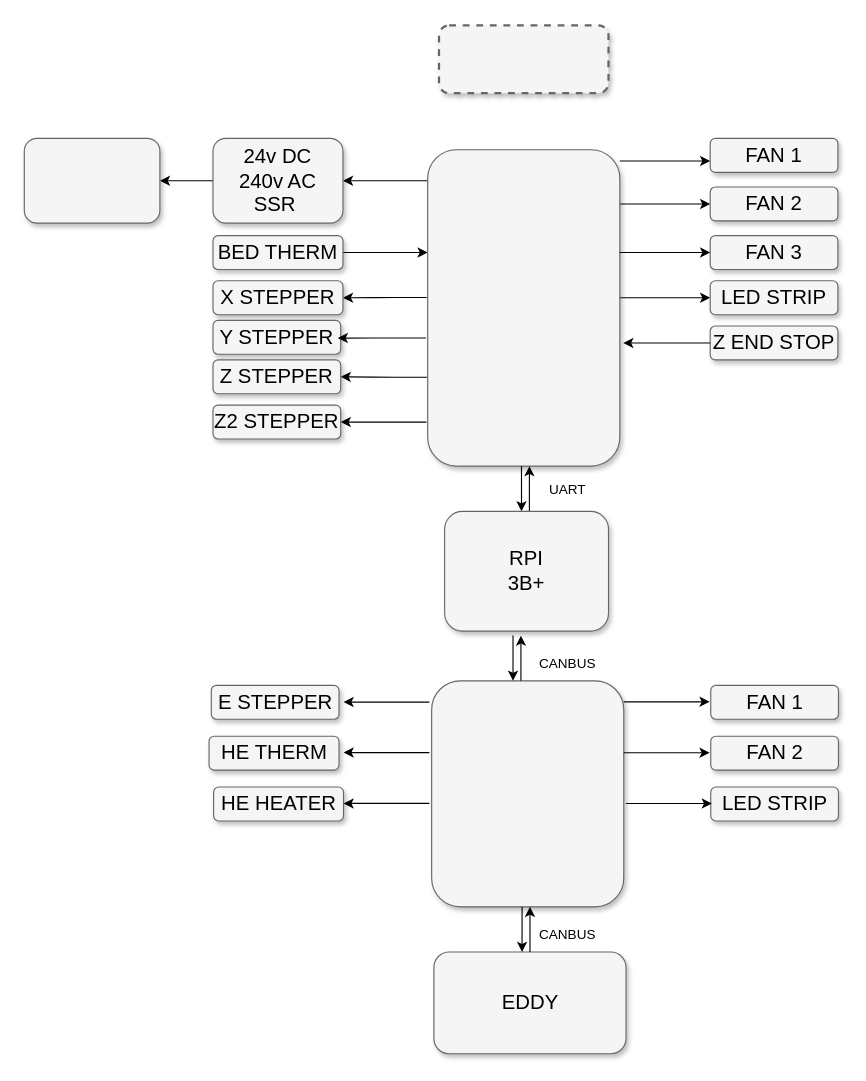
The diagram is 866 pixels wide and 1081 high, and some of its shapes have lost their labels. The shapes that lost their labels are listed below. From the top down, each one's centre as x and y in pixels, then its label:
At point (524, 60): "Printer Block Layout".
At point (93, 182): "750W HEATER BED".
At point (524, 309): "BTT PICO".
At point (528, 795): "EBB42".
